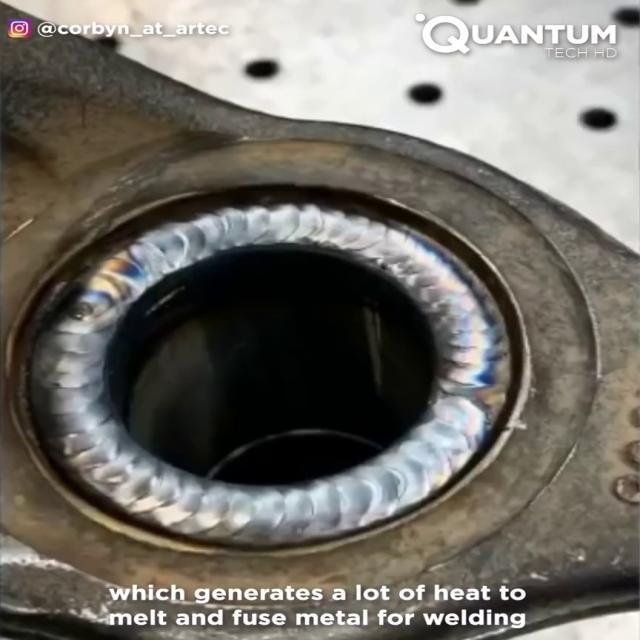Good Welding: (16, 178, 529, 560)
